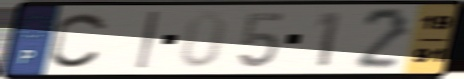0: (177, 10, 230, 70)
1: (314, 9, 345, 69)
2: (353, 5, 417, 73)
5: (235, 10, 288, 69)
C: (47, 10, 111, 70)
I: (135, 9, 163, 71)
